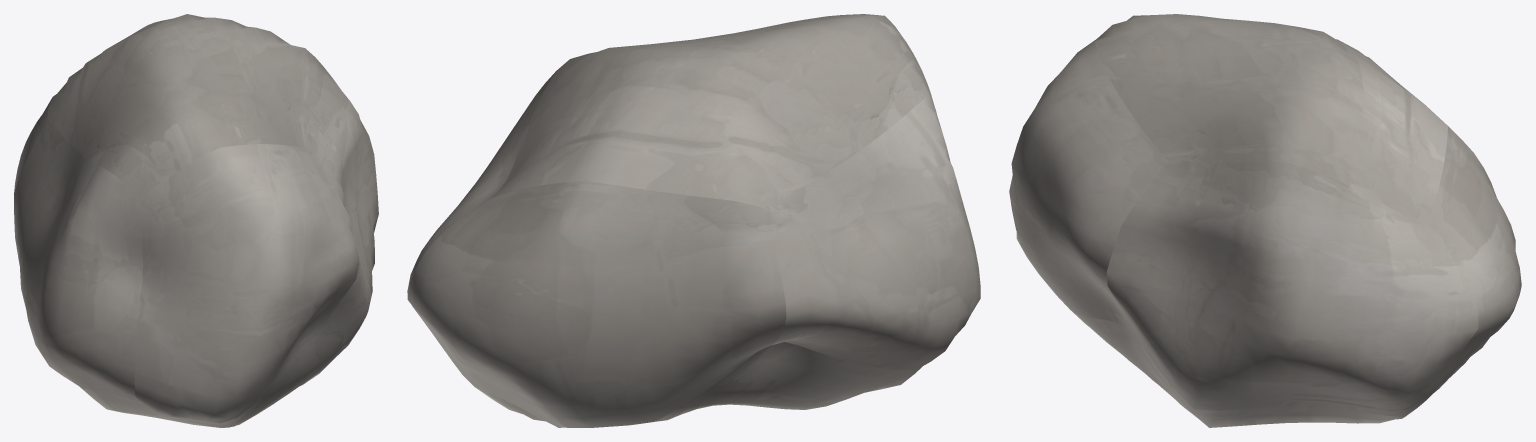
The model's file is stone.fbx.
3 renders of one model, left to right at view 1: azimuth 30°, elevation 25°; view 2: azimuth 150°, elevation 25°; view 3: azimuth 270°, elevation 25°, orthographic. The views are drawn at different scales.
Parts seen in each view (by area): view 1: Cube_dmg; view 2: Cube_dmg; view 3: Cube_dmg.
Boxes of the visible parts, bbox=[...] form: Cube_dmg: bbox=[14, 14, 378, 427]; Cube_dmg: bbox=[407, 14, 980, 427]; Cube_dmg: bbox=[1009, 14, 1521, 427].
Bounding box in the file's own units: 205 × 175 × 231.
1 material, 1 textured.
